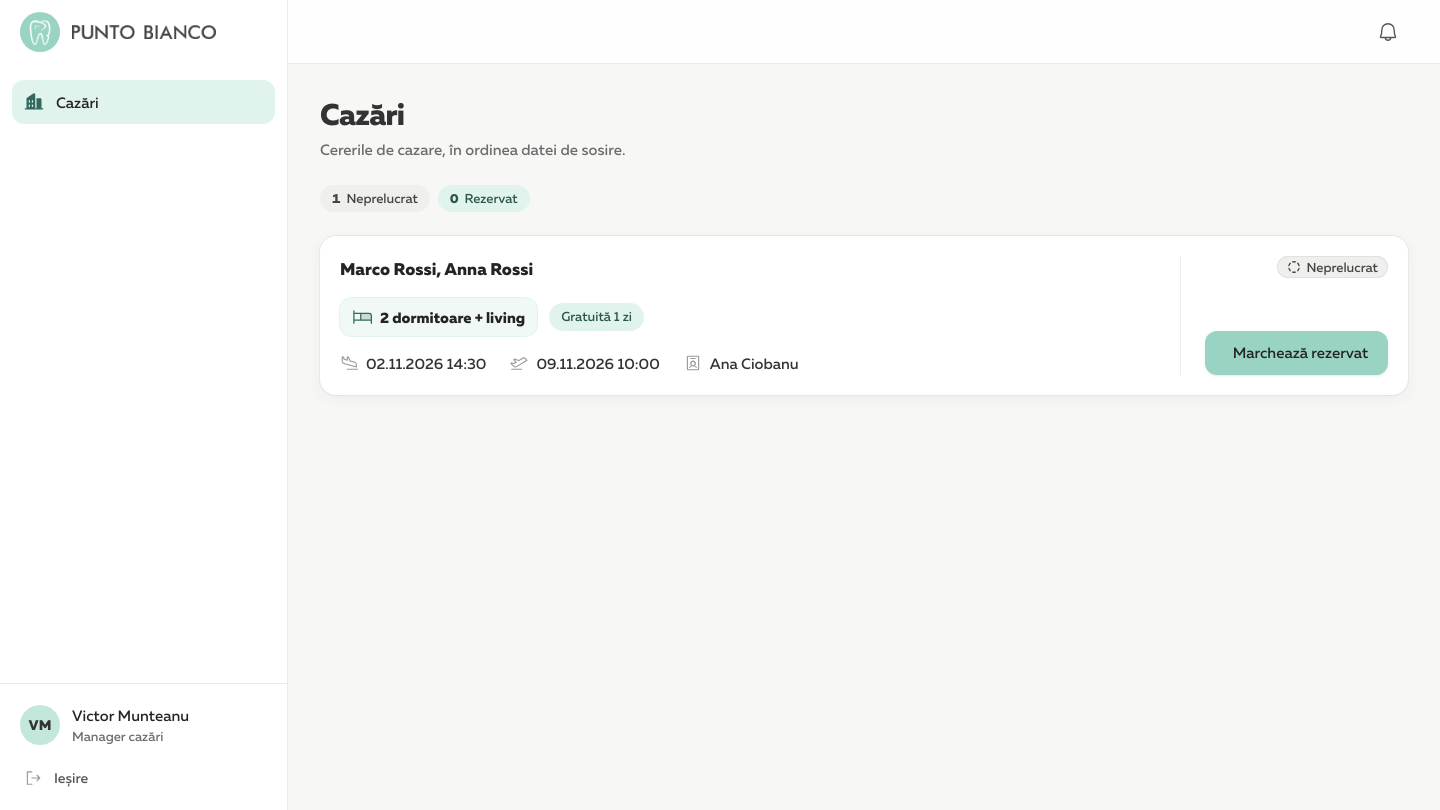
Test: Cazări › 409 (cererea a fost deja rezervată): mesaj + lista reîncărcată
Click the button "Marchează rezervat". click: (1296, 352)
box: 1205,330 -> 1388,374
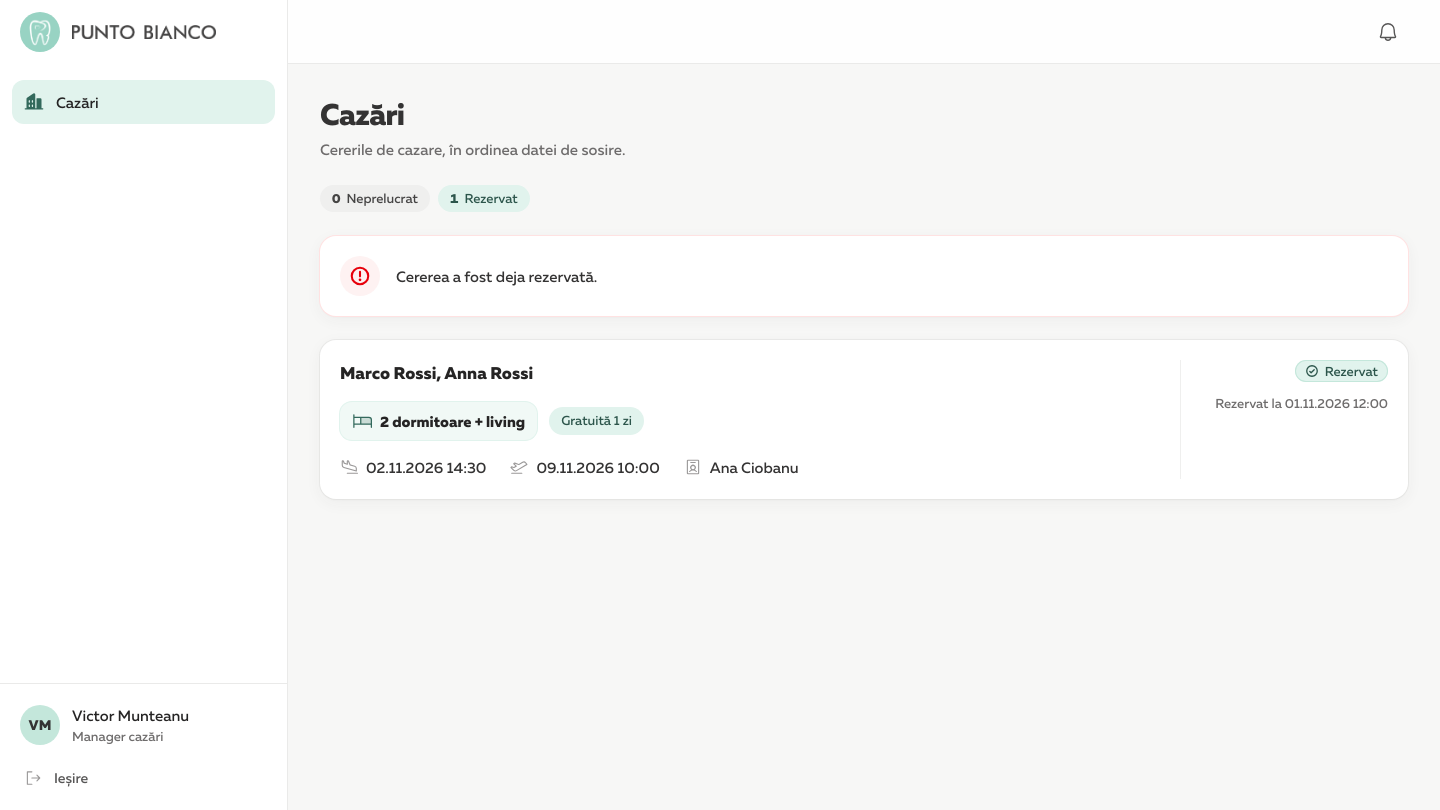
Expected: the message reads "Cererea a fost deja rezervată.", 396,267 -> 597,285
Expected: the text "Rezervat" is shown, 1295,360 -> 1388,382
Expected: the button "Marchează rezervat" is gone
